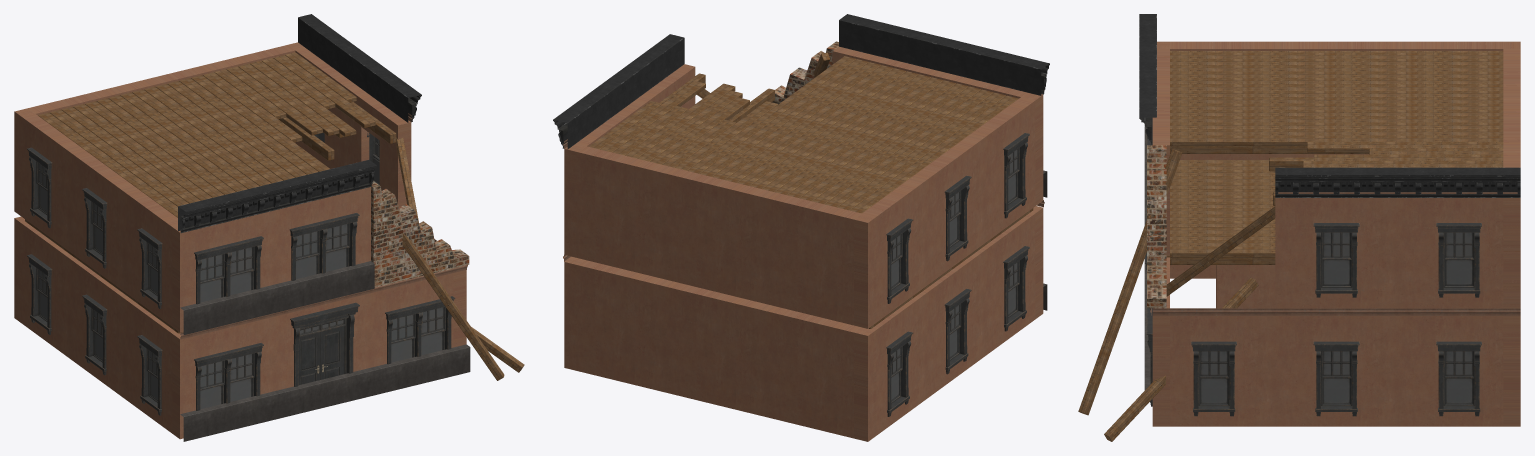
Rendered from urban_ruin.gltf.
3 renders of one model, left to right at view 1: azimuth 30°, elevation 25°; view 2: azimuth 150°, elevation 25°; view 3: azimuth 270°, elevation 25°, orthographic. The views are drawn at different scales.
Visible parts, largest first — view 1: Fractured front corner, wall_window_centered_small_01_placed.009, wall_window_centered_small_01_placed.008, wall_window_centered_large_01_placed, wall_window_centered_small_01_placed.010, wall_window_centered_large_01_placed.002, wall_window_centered_small_01_placed.004, wall_window_centered_small_01_placed.003, wall_window_centered_small_01_placed.005, door_centered_large_01_placed, wall_window_centered_large_01_placed.003, wall_window_centered_small_01_placed.006 (+52 smaller); view 2: wall_standard_standard_01_placed.004, wall_standard_standard_01_placed.005, wall_standard_standard_01_placed.001, wall_standard_standard_01_placed.002, wall_standard_standard_01_placed.003, wall_standard_standard_01_placed, wall_window_centered_small_01_placed.008, wall_window_centered_small_01_placed.003, wall_window_centered_small_01_placed.009, wall_window_centered_small_01_placed.004, wall_window_centered_small_01_placed.010, wall_window_centered_small_01_placed.005 (+39 smaller); view 3: wall_window_centered_small_01_placed.001, wall_window_centered_small_01_placed.006, wall_window_centered_small_01_placed, wall_window_centered_small_01_placed.007, wall_window_centered_small_01_placed.002, crown_standard_standard_01_placed.002, crown_standard_standard_01_placed.003, Fractured front corner, window_centered_small_02_placed, window_centered_small_02_placed.002, window_centered_small_02_placed.007, window_centered_small_02_placed.001 (+56 smaller).
Boxes of the visible parts, bbox=[...] form: Fractured front corner: bbox=[371, 181, 469, 287]; wall_window_centered_small_01_placed.009: bbox=[69, 148, 137, 291]; wall_window_centered_small_01_placed.008: bbox=[14, 108, 82, 251]; wall_window_centered_large_01_placed: bbox=[172, 316, 275, 439]; wall_window_centered_small_01_placed.010: bbox=[124, 189, 193, 331]; wall_window_centered_large_01_placed.002: bbox=[172, 210, 275, 332]; wall_window_centered_small_01_placed.004: bbox=[69, 257, 128, 398]; wall_window_centered_small_01_placed.003: bbox=[14, 216, 73, 358]; wall_window_centered_small_01_placed.005: bbox=[124, 298, 193, 436]; door_centered_large_01_placed: bbox=[290, 302, 359, 386]; wall_window_centered_large_01_placed.003: bbox=[275, 187, 370, 284]; wall_window_centered_small_01_placed.006: bbox=[343, 83, 411, 206]; wall_standard_standard_01_placed.004: bbox=[665, 167, 774, 303]; wall_standard_standard_01_placed.005: bbox=[564, 145, 673, 279]; wall_standard_standard_01_placed.001: bbox=[665, 281, 773, 416]; wall_standard_standard_01_placed.002: bbox=[564, 258, 672, 392]; wall_standard_standard_01_placed.003: bbox=[766, 192, 876, 325]; wall_standard_standard_01_placed: bbox=[766, 306, 876, 438]; wall_window_centered_small_01_placed.008: bbox=[854, 177, 926, 328]; wall_window_centered_small_01_placed.003: bbox=[854, 292, 926, 441]; wall_window_centered_small_01_placed.009: bbox=[912, 134, 984, 285]; wall_window_centered_small_01_placed.004: bbox=[922, 249, 984, 398]; wall_window_centered_small_01_placed.010: bbox=[971, 95, 1038, 242]; wall_window_centered_small_01_placed.005: bbox=[980, 206, 1041, 355]; wall_window_centered_small_01_placed.001: bbox=[1275, 316, 1397, 426]; wall_window_centered_small_01_placed.006: bbox=[1275, 198, 1397, 308]; wall_window_centered_small_01_placed: bbox=[1152, 316, 1275, 426]; wall_window_centered_small_01_placed.007: bbox=[1398, 198, 1520, 308]; wall_window_centered_small_01_placed.002: bbox=[1398, 316, 1520, 426]; crown_standard_standard_01_placed.002: bbox=[1275, 167, 1397, 197]; crown_standard_standard_01_placed.003: bbox=[1398, 167, 1520, 197]; Fractured front corner: bbox=[1147, 145, 1166, 308]; window_centered_small_02_placed: bbox=[1191, 341, 1236, 416]; window_centered_small_02_placed.002: bbox=[1436, 341, 1481, 416]; window_centered_small_02_placed.007: bbox=[1436, 223, 1481, 297]; window_centered_small_02_placed.001: bbox=[1313, 341, 1359, 416].
Size of the model in its own units: 10.35 by 6.95 by 10.82.
7 materials, 7 textured.
